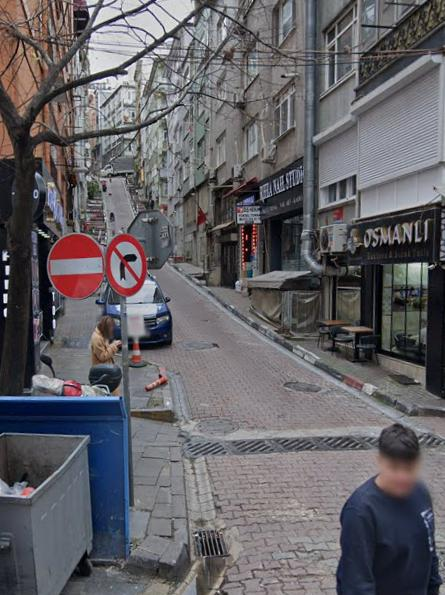rightturnsareforbidden: (108, 236, 145, 293)
